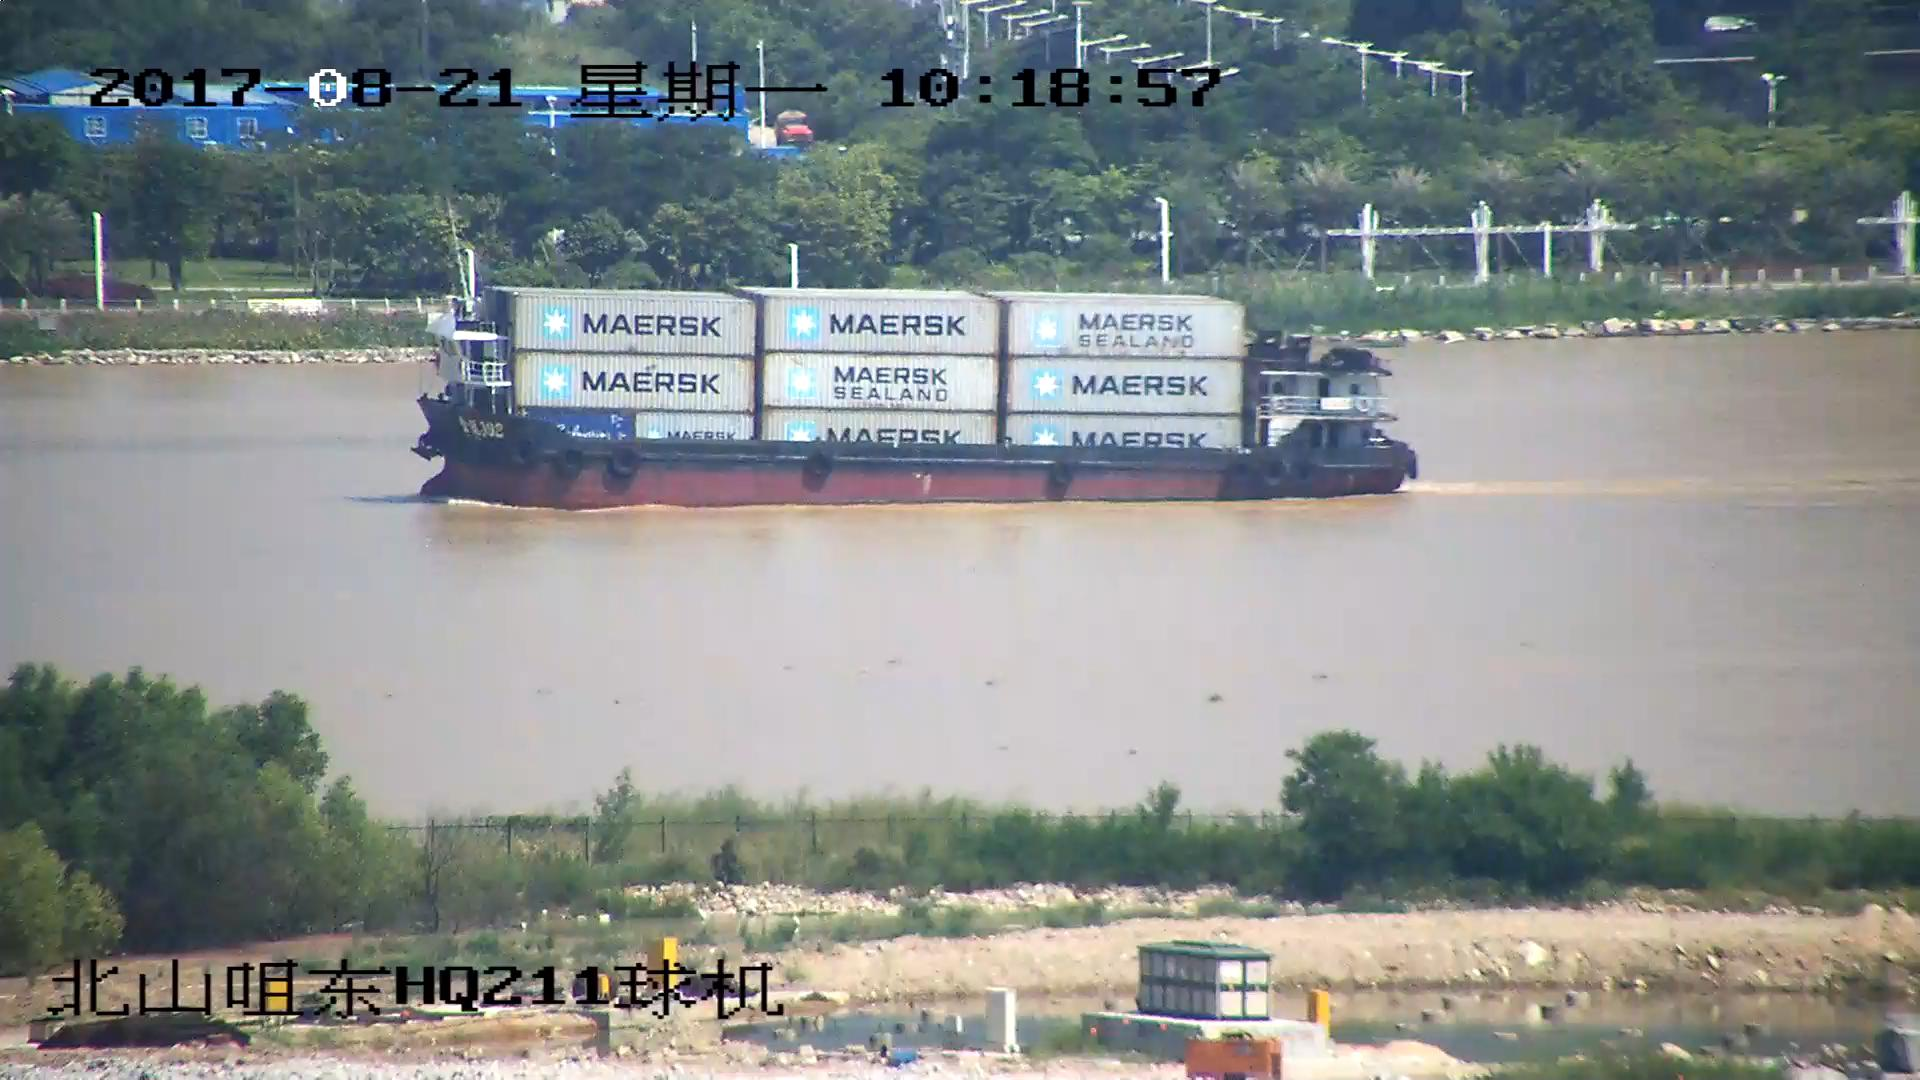container ship: (412, 208, 1419, 510)
